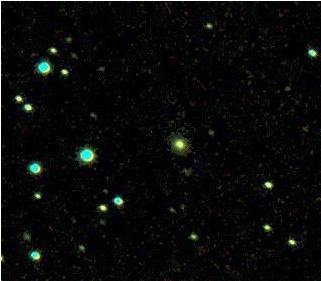star: (286, 112, 316, 142)
